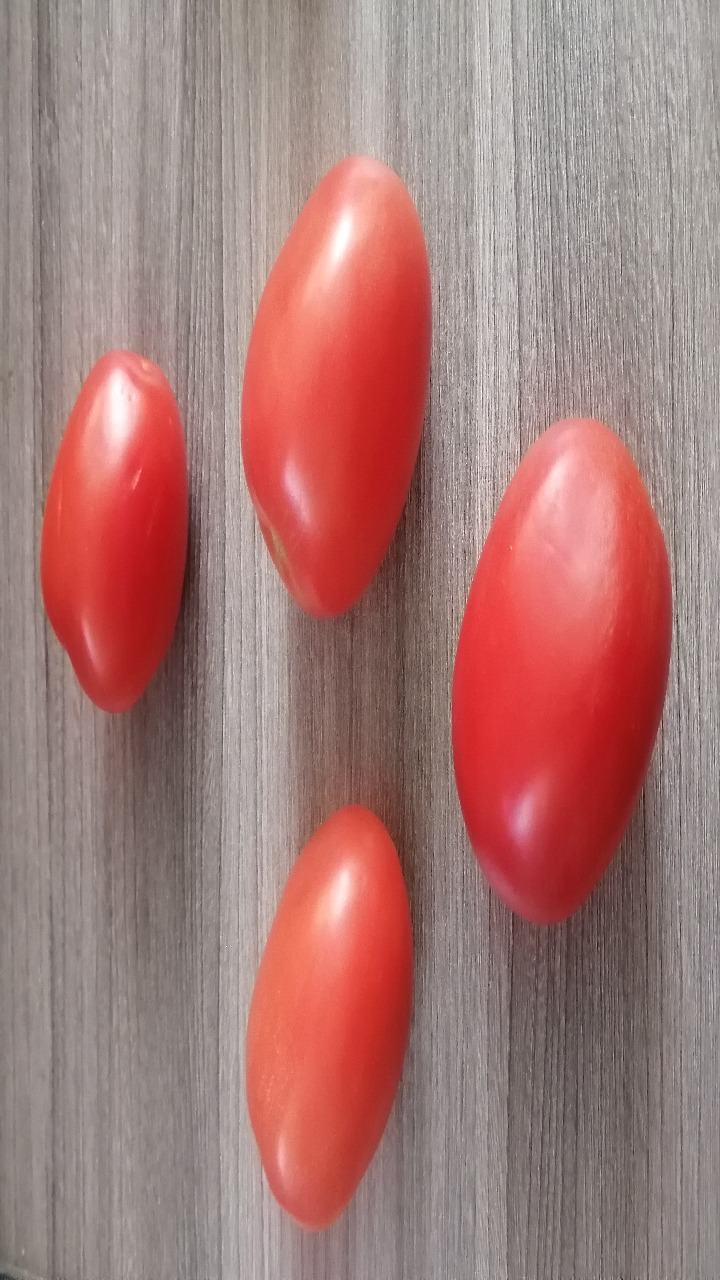tomateRojo: (421, 395, 692, 945), (194, 786, 463, 1235), (211, 155, 444, 632), (35, 339, 201, 715)
